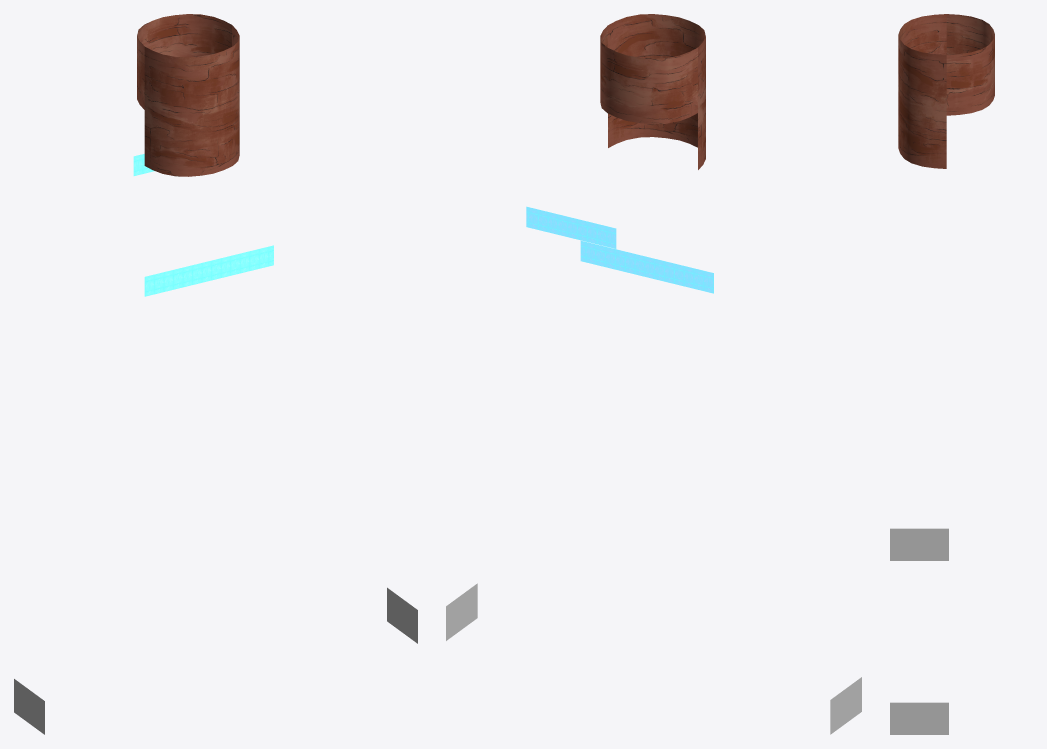
The model's file is B11 UVFixedWallRuns.fbx.
3 views of the same model, side by side, from view 1: azimuth 30°, elevation 25°; view 2: azimuth 150°, elevation 25°; view 3: azimuth 270°, elevation 25° (orthographic). The views are drawn at different scales.
Visible parts, largest first — view 1: WALLRUN.005, WALLRUN.008, WALLRUN.006, WALLRUN.007; view 2: WALLRUN.005, WALLRUN.008, WALLRUN.009, WALLRUN.006, WALLRUN.007; view 3: WALLRUN.005, WALLRUN.006, WALLRUN.007.
Boxes of the visible parts, x1=… form: WALLRUN.005: x1=137, y1=14, x2=239, y2=176; WALLRUN.008: x1=144, y1=245, x2=273, y2=296; WALLRUN.006: x1=387, y1=587, x2=417, y2=643; WALLRUN.007: x1=14, y1=679, x2=44, y2=734; WALLRUN.005: x1=600, y1=14, x2=705, y2=169; WALLRUN.008: x1=580, y1=241, x2=713, y2=293; WALLRUN.009: x1=526, y1=206, x2=616, y2=248; WALLRUN.006: x1=446, y1=583, x2=477, y2=640; WALLRUN.007: x1=830, y1=677, x2=861, y2=734; WALLRUN.005: x1=898, y1=14, x2=994, y2=168; WALLRUN.006: x1=890, y1=702, x2=948, y2=734; WALLRUN.007: x1=890, y1=528, x2=948, y2=560.
Bounding box in the file's own units: 9801 × 15951 × 3400.
